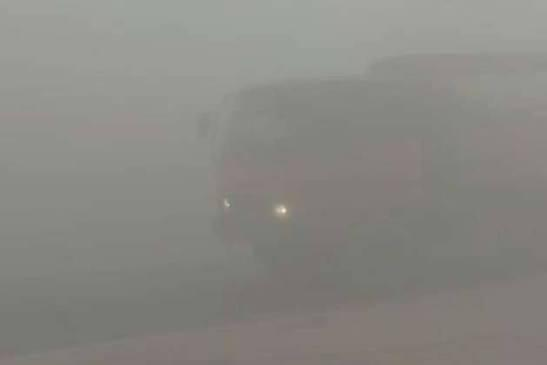Kendaraan: (207, 53, 546, 297)
